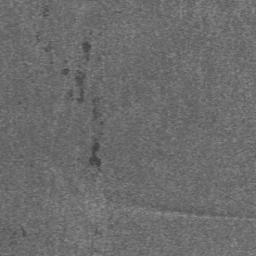Iron scale compression: (89, 141, 101, 168), (76, 71, 85, 102), (82, 41, 91, 60), (92, 97, 99, 114)
